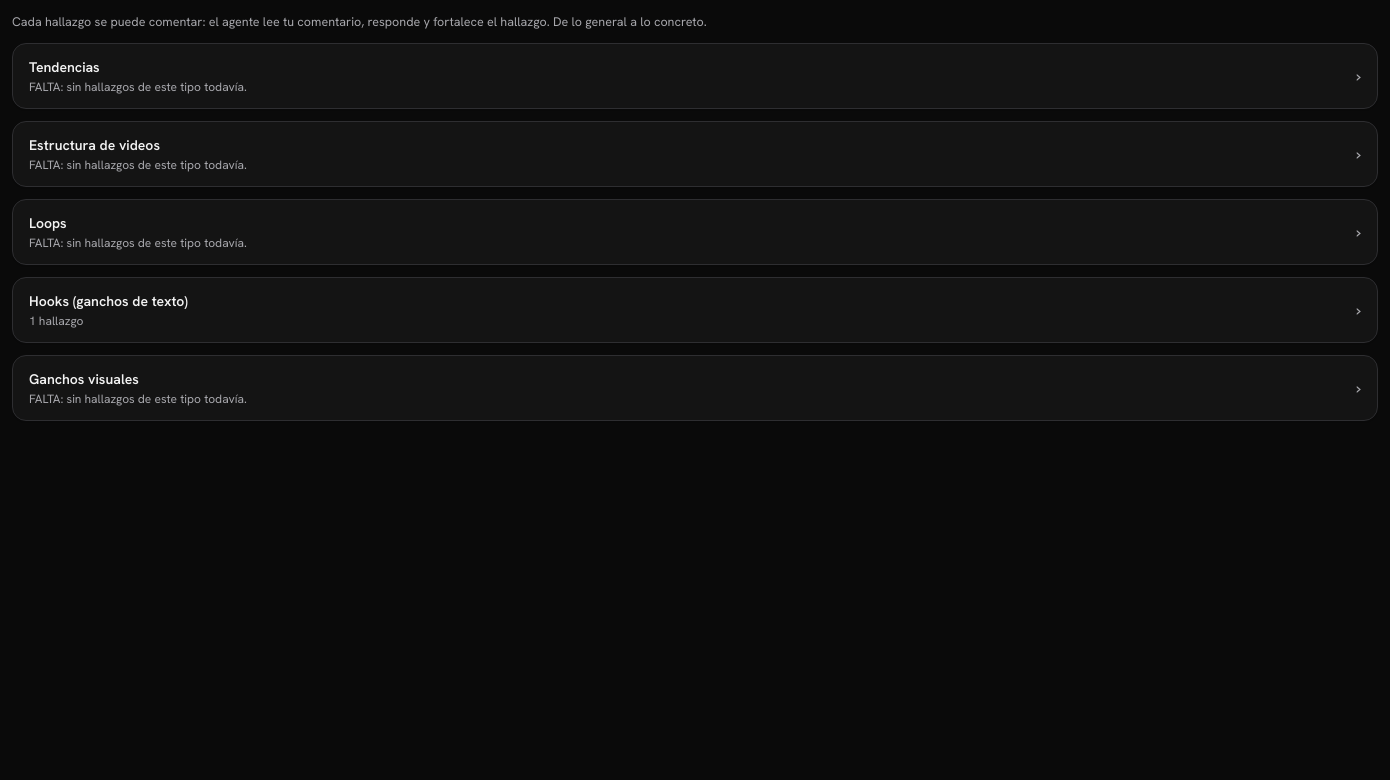
Scenario: InvestigacionInteractiva › un hallazgo descartado no ofrece comentar
This screenshot has width=1390, height=780.
Step 1. Click the button "Hooks (ganchos de texto) 1 hallazgo ›" → (108, 301), box top-left (13, 278), bottom-right (1377, 342)
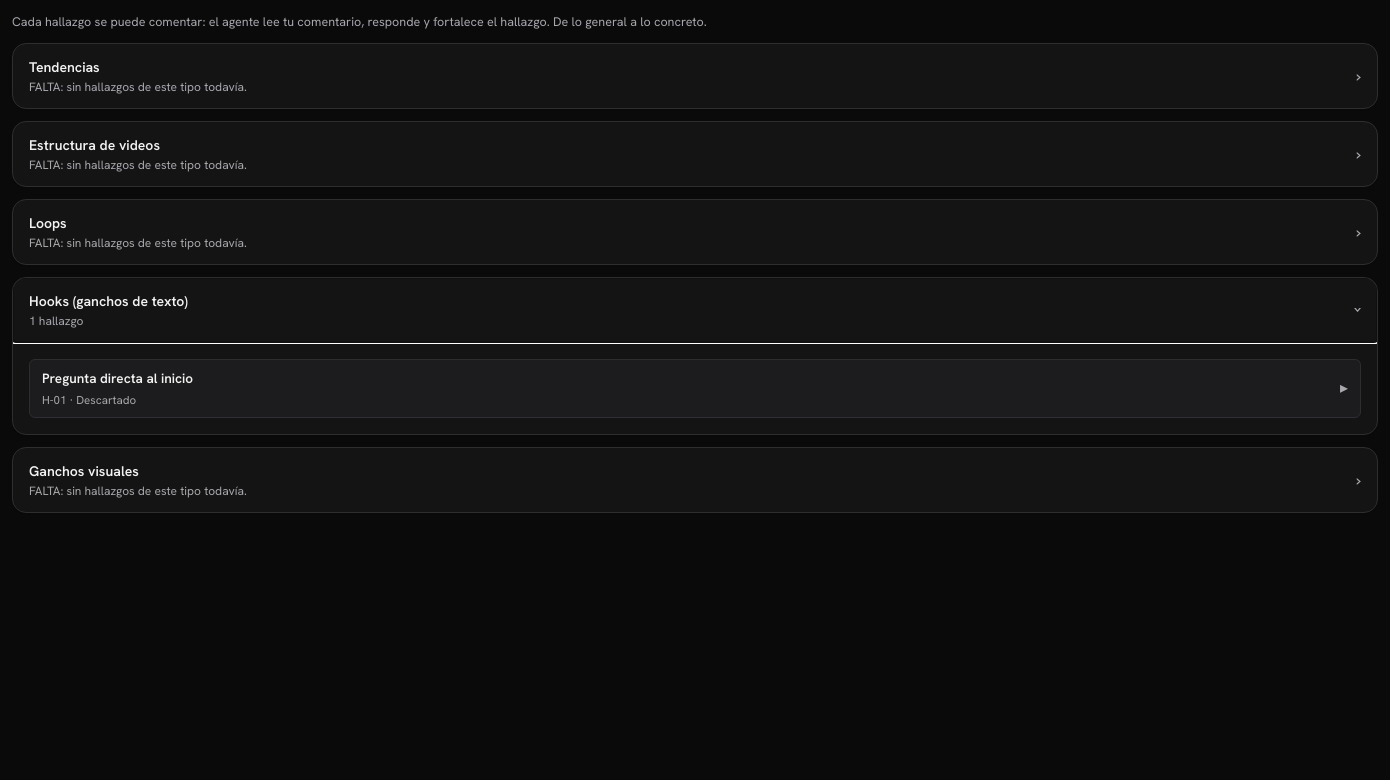
Step 2. Click the button "Pregunta directa al inicio H-01 · Descartado ▸" → (117, 378), box top-left (30, 360), bottom-right (1360, 417)
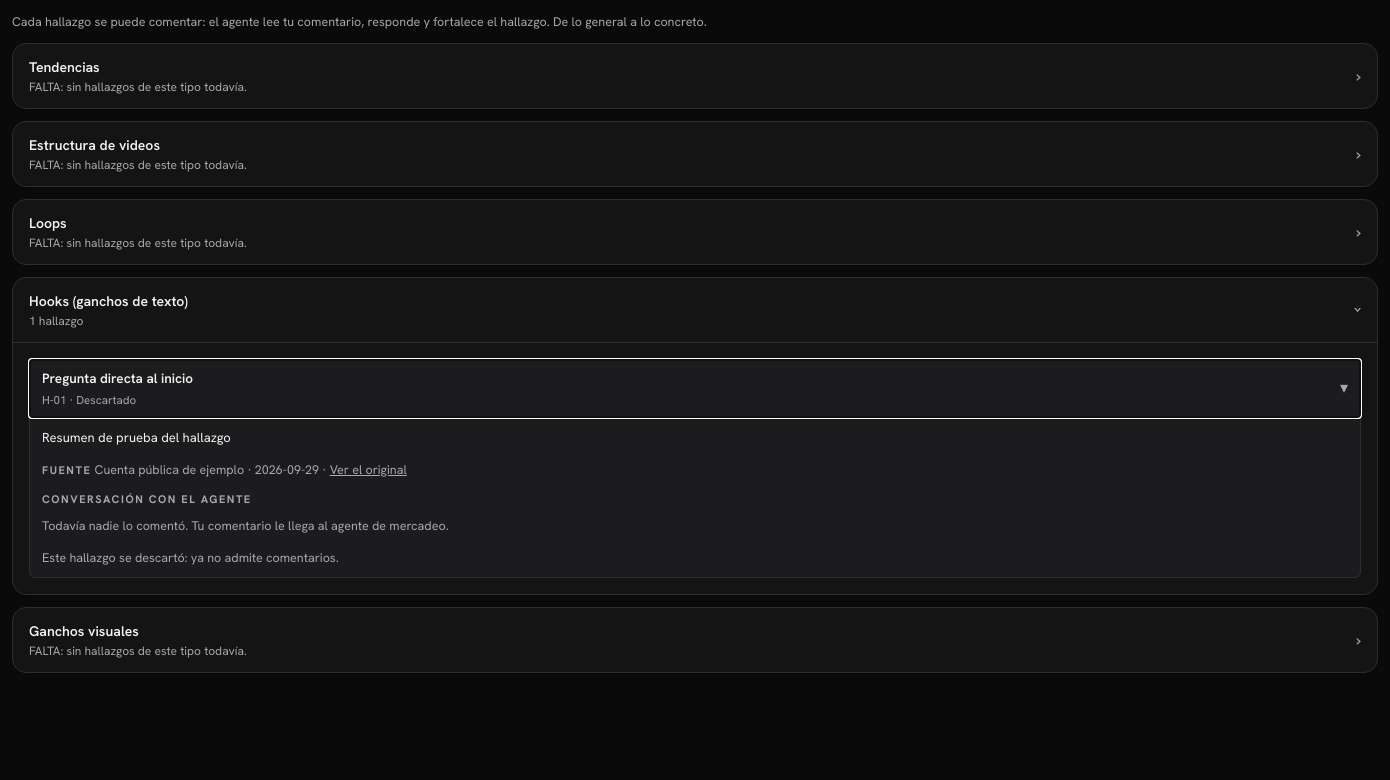
Expected: the text "Este hallazgo se descartó: ya no admite comentarios." is shown, top-left (42, 549), bottom-right (339, 566)
